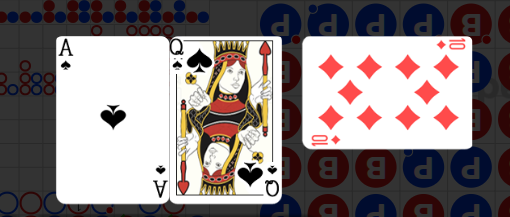10D: (435, 39, 467, 52), (310, 134, 342, 147)
AS: (58, 39, 76, 74)
